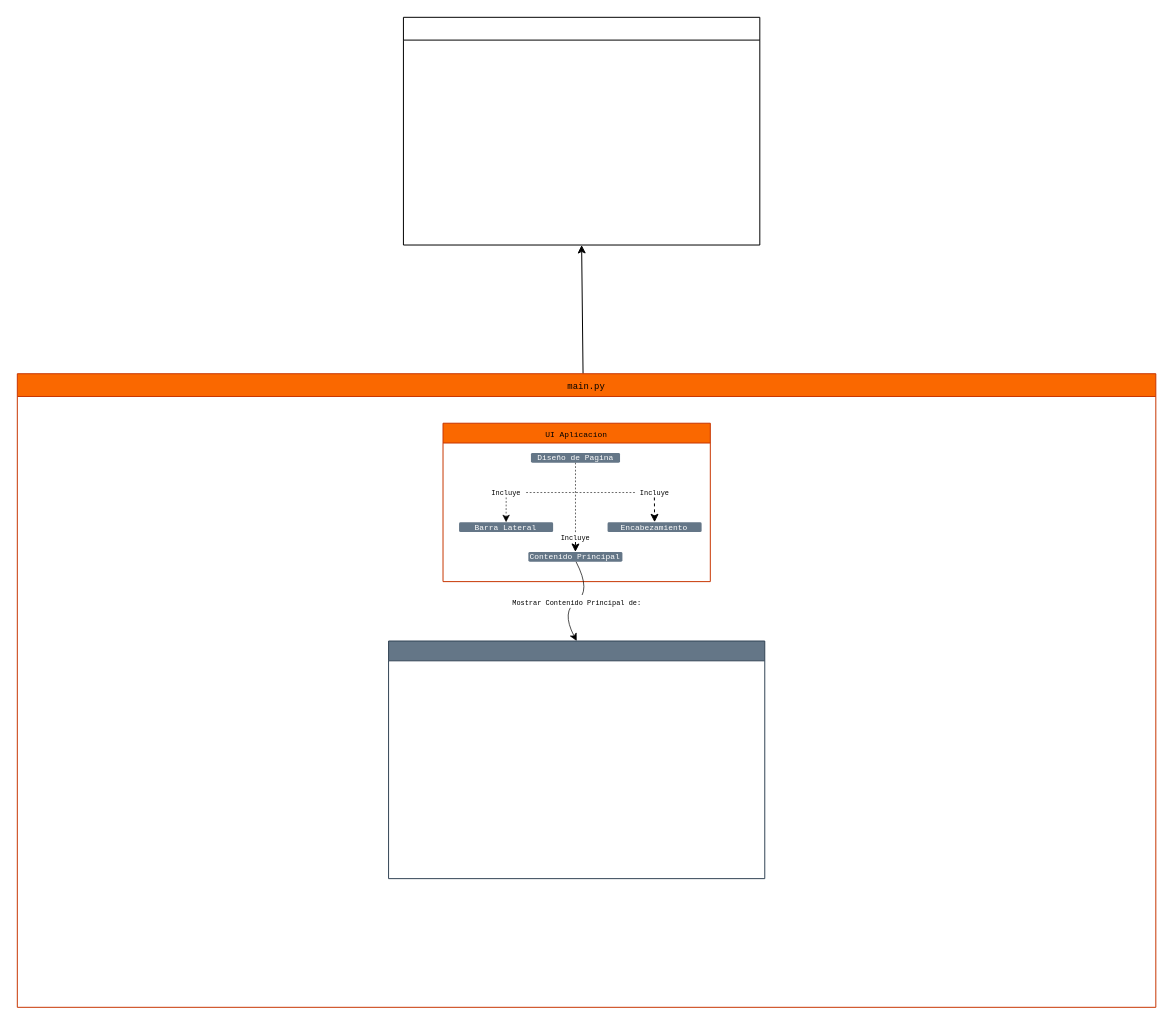
The diagram is 1173 pixels wide and 1025 high, and some of its shapes have lost their labels. Here are the shapes that lost their labels. From the top down, the centre of each, then its label:
pixel 581 130: Inicio de Sesion
pixel 576 759: self.frame
